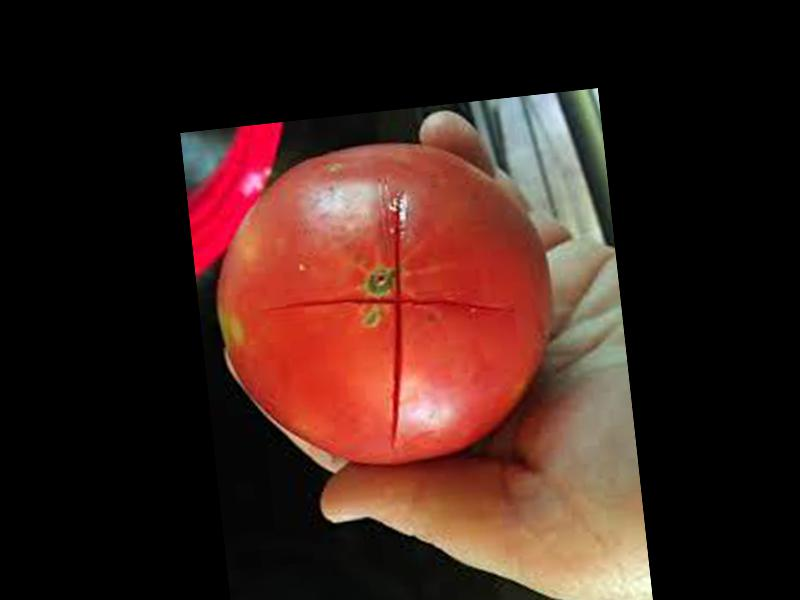Tomato: (203, 124, 569, 483)
